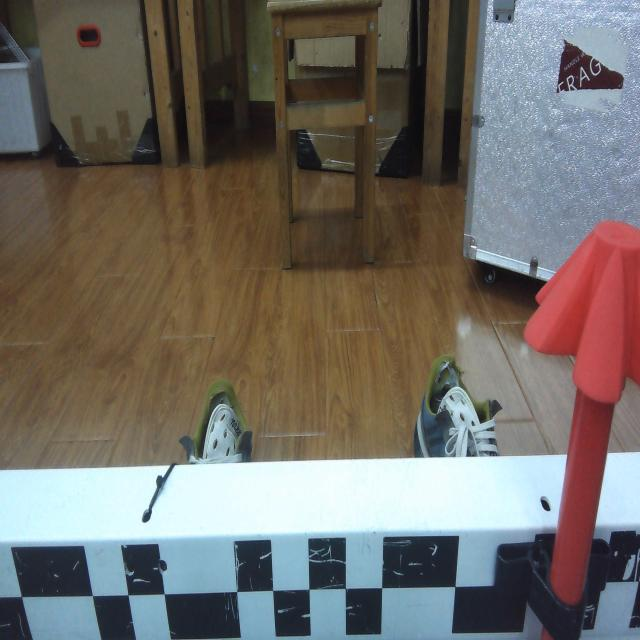Blue-Ring: (341, 634, 384, 640)
zred-Stake-Head: (524, 220, 640, 401)
